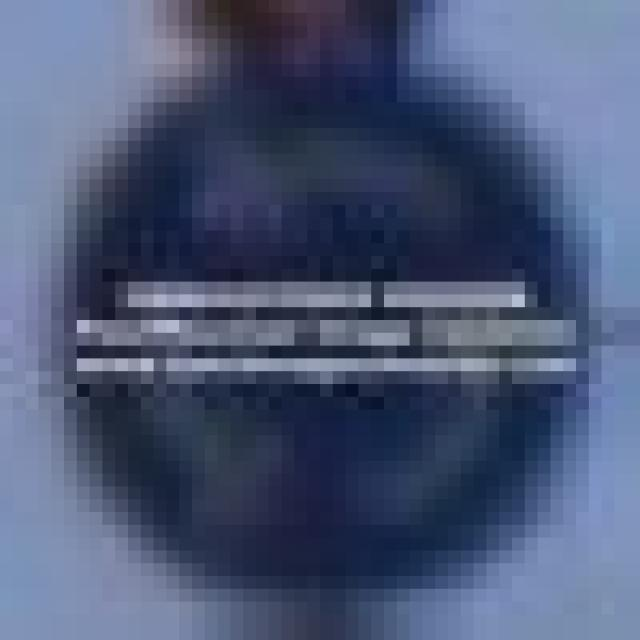ROUNDABOUT: (38, 51, 589, 589)
